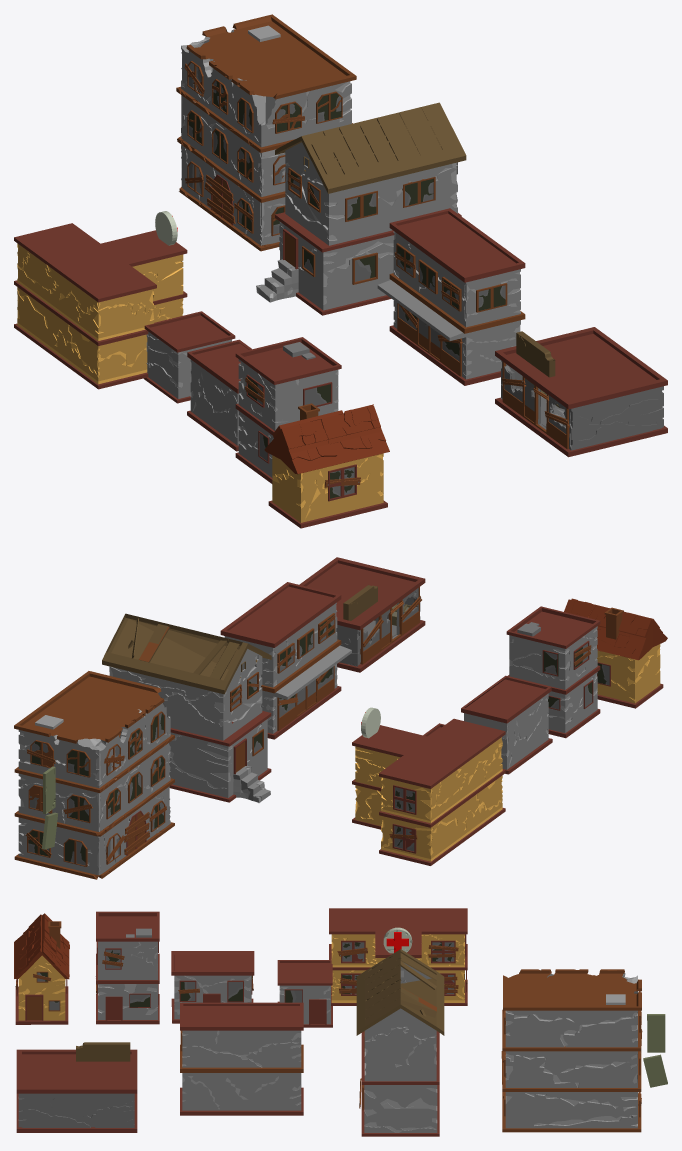
File: Buildings.fbx
3 views of the same model, one above another, from view 1: azimuth 30°, elevation 25°; view 2: azimuth 150°, elevation 25°; view 3: azimuth 270°, elevation 25° (orthographic). The views are drawn at different scales.
Parts seen in each view (by area): view 1: Cube.020, Cube.027, Building, Cube.062, Cube.014, Plane.004, Plane.003, Plane.001, Cube.042, Cube.028, Cube.036, Cube.051 (+23 smaller); view 2: Cube.020, Building, Cube.027, Plane.004, Cube.001, Plane.003, Cube.014, Plane.001, Cube.028, Cube.017, Cube.062, Cube.024 (+26 smaller); view 3: Cube.020, Cube.014, Building, Cube.027, Cube.028, Cube.021, Cube.024, Cube.062, Cube.012, Plane.004, Cube.051, Cube.001 (+24 smaller).
Boxes of the visible parts, x1=… form: Cube.020: x1=275, y1=102, x2=466, y2=245; Cube.027: x1=186, y1=14, x2=356, y2=99; Building: x1=235, y1=337, x2=341, y2=483; Cube.062: x1=495, y1=327, x2=667, y2=409; Cube.014: x1=393, y1=213, x2=520, y2=327; Plane.004: x1=14, y1=223, x2=187, y2=302; Plane.003: x1=17, y1=243, x2=183, y2=340; Plane.001: x1=17, y1=287, x2=183, y2=384; Cube.042: x1=264, y1=404, x2=389, y2=474; Cube.028: x1=181, y1=29, x2=351, y2=147; Cube.036: x1=268, y1=453, x2=387, y2=528; Cube.051: x1=501, y1=360, x2=663, y2=450; Cube.020: x1=102, y1=613, x2=271, y2=740; Building: x1=506, y1=606, x2=600, y2=738; Cube.027: x1=14, y1=671, x2=164, y2=743; Plane.004: x1=352, y1=718, x2=505, y2=788; Cube.001: x1=461, y1=675, x2=552, y2=774; Plane.003: x1=355, y1=737, x2=502, y2=823; Cube.014: x1=224, y1=586, x2=337, y2=687; Plane.001: x1=355, y1=775, x2=502, y2=861; Cube.028: x1=18, y1=703, x2=170, y2=788; Cube.017: x1=169, y1=719, x2=267, y2=797; Cube.062: x1=299, y1=557, x2=425, y2=630; Cube.024: x1=18, y1=743, x2=170, y2=831; Cube.020: x1=356, y1=949, x2=444, y2=1081; Cube.014: x1=182, y1=1006, x2=301, y2=1067; Building: x1=96, y1=911, x2=159, y2=1024; Cube.027: x1=503, y1=969, x2=641, y2=1010; Cube.028: x1=505, y1=973, x2=637, y2=1047; Cube.021: x1=505, y1=1092, x2=637, y2=1128; Cube.024: x1=505, y1=1051, x2=637, y2=1087; Cube.062: x1=16, y1=1049, x2=137, y2=1093; Cube.012: x1=182, y1=1073, x2=301, y2=1110; Plane.004: x1=329, y1=908, x2=467, y2=957; Cube.051: x1=18, y1=1093, x2=134, y2=1127; Cube.001: x1=171, y1=951, x2=254, y2=1023.
Bounding box in the file's own units: 2557 × 1050 × 4570.
